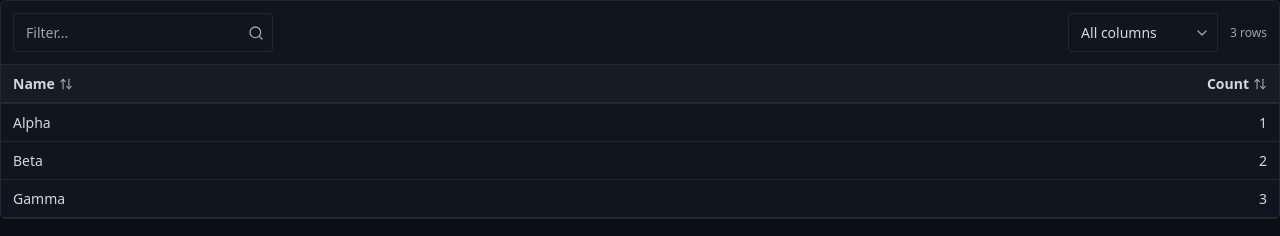
Scenario: Table — filter behavior › filter with no match renders the Empty state
Type "zzzz" into the field with placeholder "Filter..." at [127, 32], box [14,14,240,51]
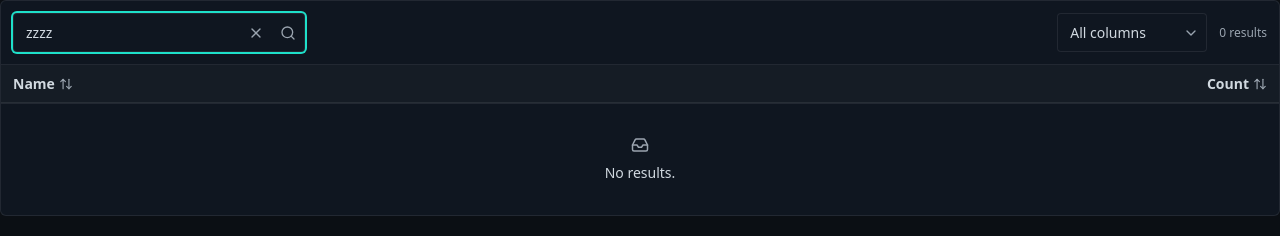
Result: the element with test id "table-empty" is shown at [605,136,675,182]
